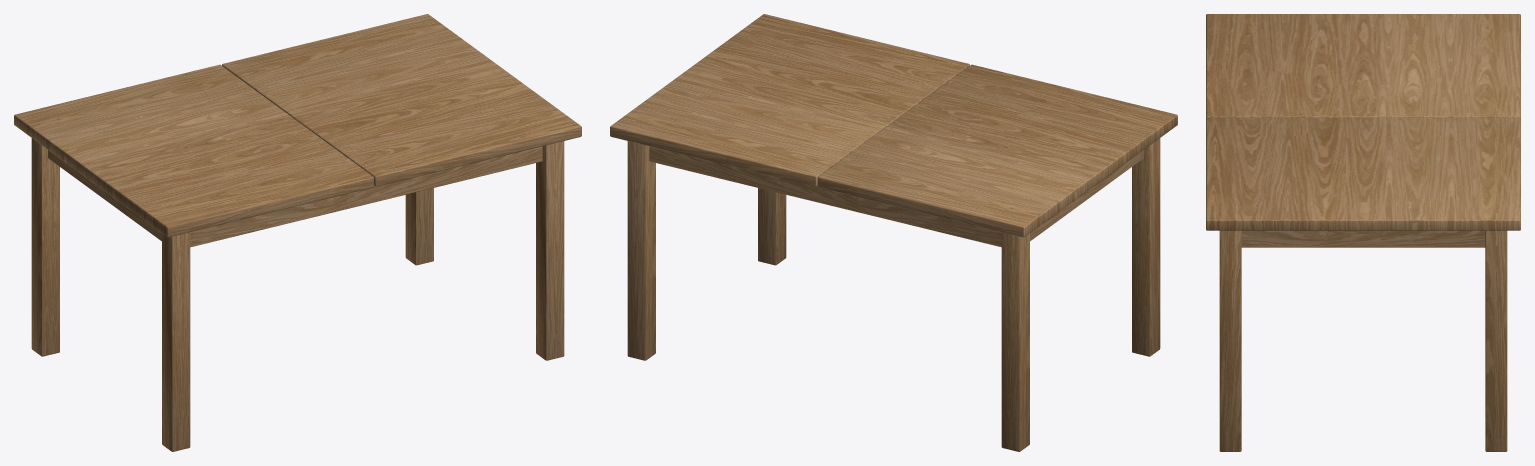
The model's file is mesa_extensible_cerrada.glb.
3 views of the same model, side by side, from view 1: azimuth 30°, elevation 25°; view 2: azimuth 150°, elevation 25°; view 3: azimuth 270°, elevation 25° (orthographic). The views are drawn at different scales.
Visible parts, largest first — view 1: mesa_extensible_cerrada; view 2: mesa_extensible_cerrada; view 3: mesa_extensible_cerrada.
Part boxes in pixels (<box>): mesa_extensible_cerrada: <box>14,14,581,451</box>; mesa_extensible_cerrada: <box>610,14,1177,451</box>; mesa_extensible_cerrada: <box>1206,14,1520,451</box>.
Size of the model in its own units: 1.4 by 0.7499 by 0.9.
1 material, 1 textured.
